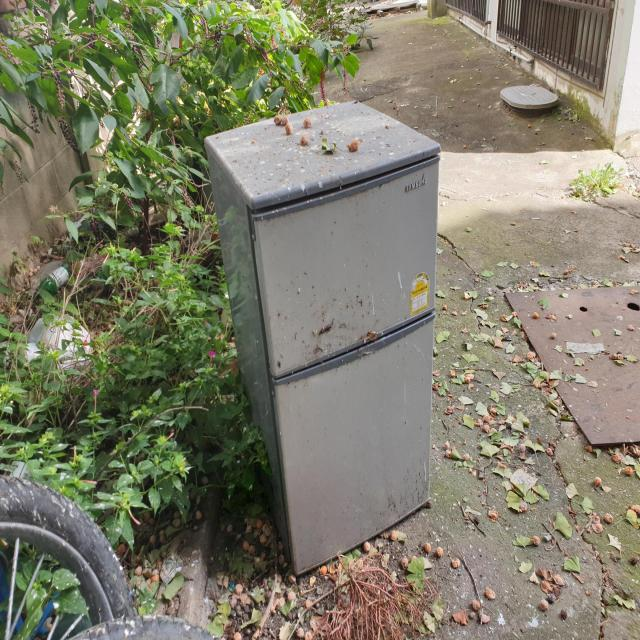refrigerator: (202, 91, 443, 574)
